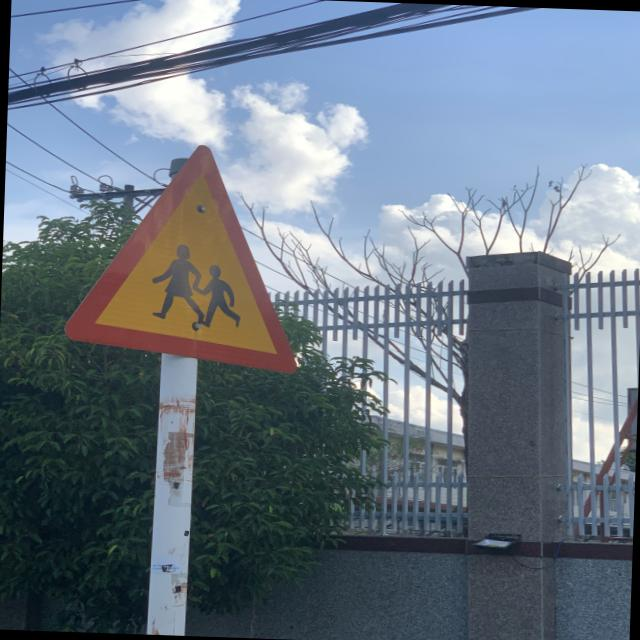Vong_Xuyen: (58, 137, 306, 370)
